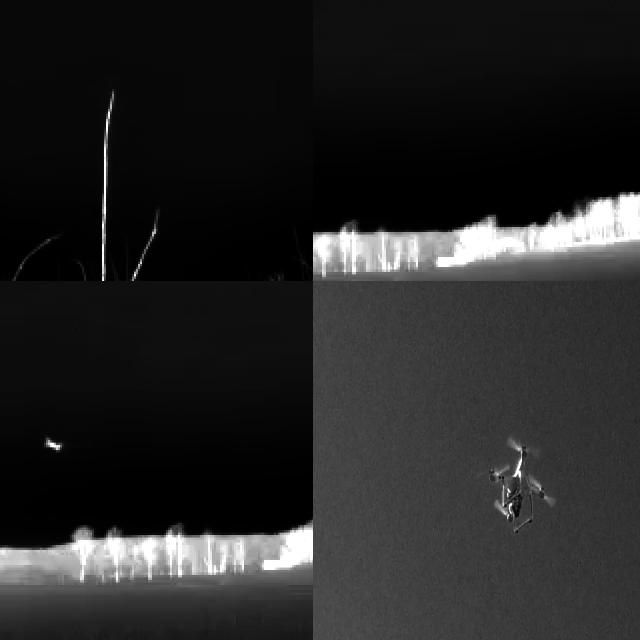1: (30, 433, 74, 465)
drone: (484, 438, 554, 536)
